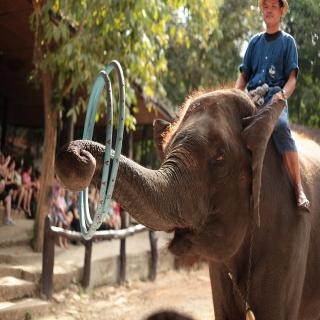Elephant: (61, 85, 320, 320)
